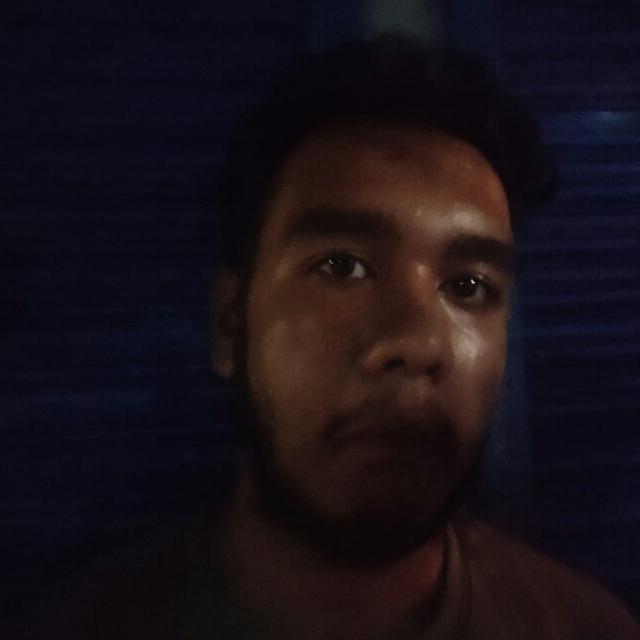Sad: (157, 15, 553, 533)
